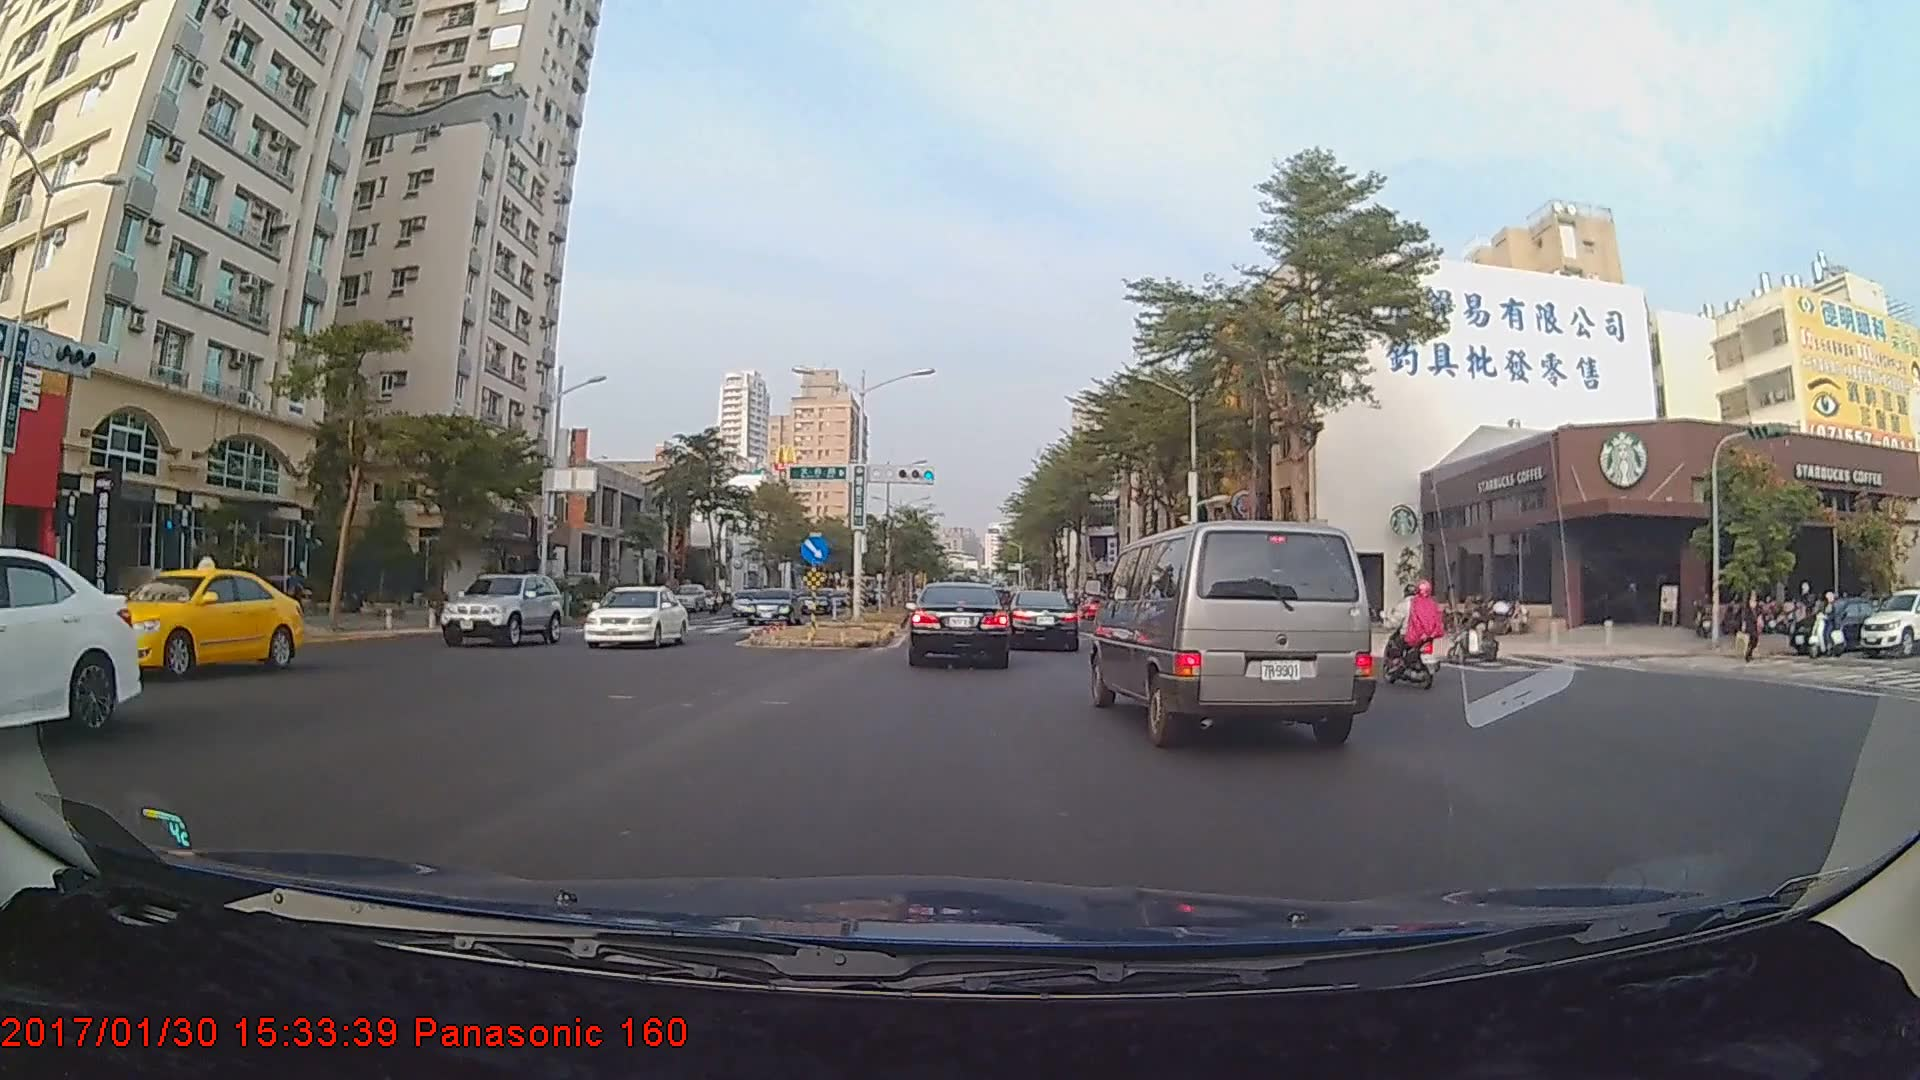pedestrian: (1742, 588, 1762, 658)
rider: (1379, 571, 1453, 679), (1805, 587, 1850, 659)
vehicle: (1098, 514, 1372, 748), (0, 559, 142, 758), (78, 568, 300, 673), (432, 567, 556, 644), (909, 581, 1011, 667), (579, 582, 690, 645), (1007, 588, 1078, 651), (741, 584, 803, 623)
